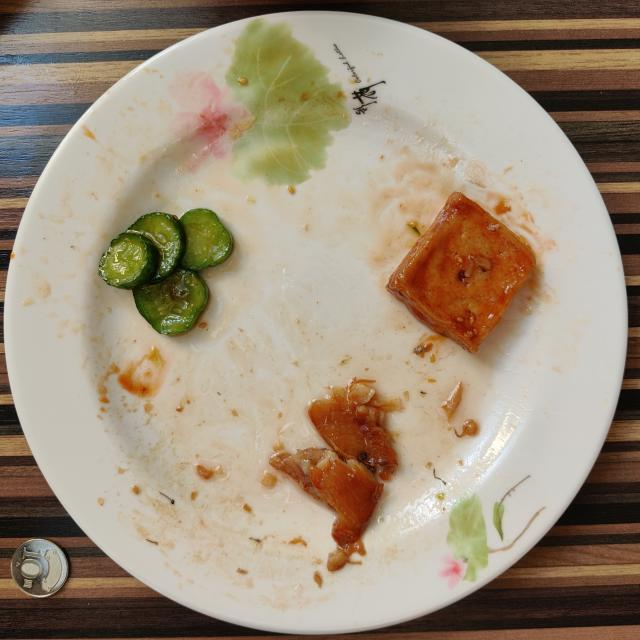Kabayaki sea bream fillet: (270, 379, 401, 571)
coin: (11, 539, 69, 598)
creamy tofu: (386, 192, 536, 352)
cucumber: (99, 209, 232, 334)
